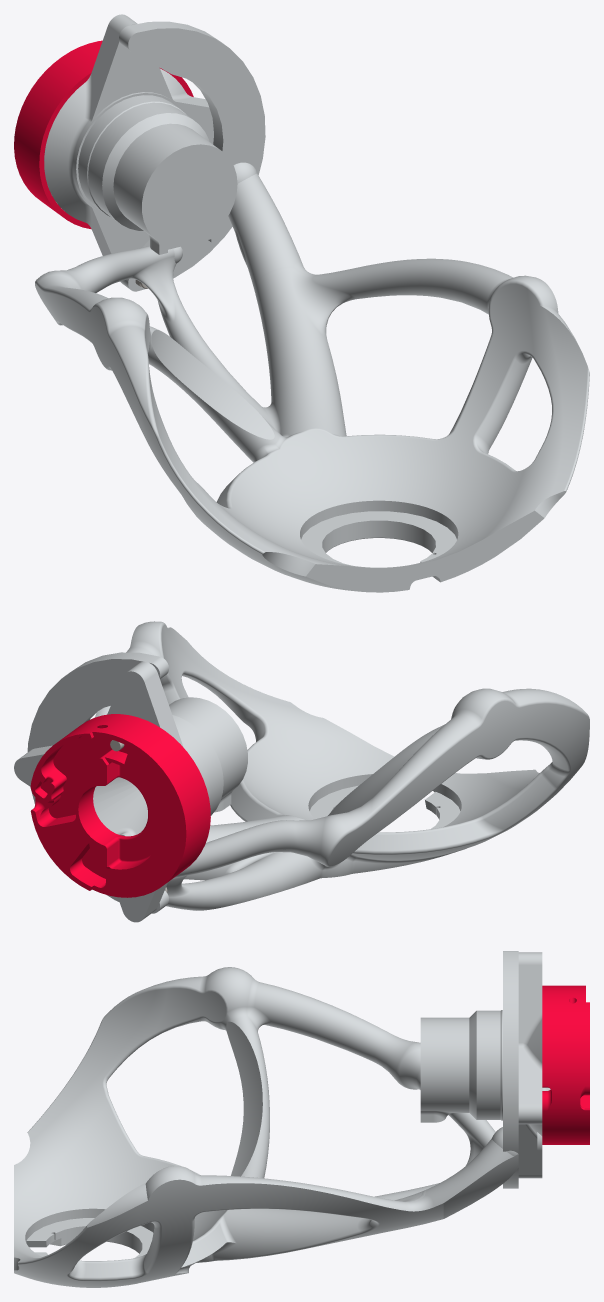
The model's file is abdomen.dae.
3 renders of one model, top to bottom at view 1: azimuth 30°, elevation 25°; view 2: azimuth 150°, elevation 25°; view 3: azimuth 270°, elevation 25°, orthographic. The views are drawn at different scales.
Parts seen in each view (by area): view 1: Body_1, _3DGeom_418, Body_3; view 2: Body_1, Body_3, _3DGeom_418; view 3: Body_1, _3DGeom_418, Body_3.
Part boxes in pixels (box(x1,y1,x2,y2)): Body_1: box(35, 21, 589, 592); _3DGeom_418: box(44, 14, 237, 255); Body_3: box(14, 40, 193, 229); Body_1: box(27, 621, 589, 913); Body_3: box(30, 714, 210, 897); _3DGeom_418: box(14, 661, 247, 922); Body_1: box(14, 951, 518, 1287); _3DGeom_418: box(420, 952, 550, 1178); Body_3: box(542, 985, 589, 1144).
Size of the model in its own units: 0.2698 by 0.362 by 0.2139.
